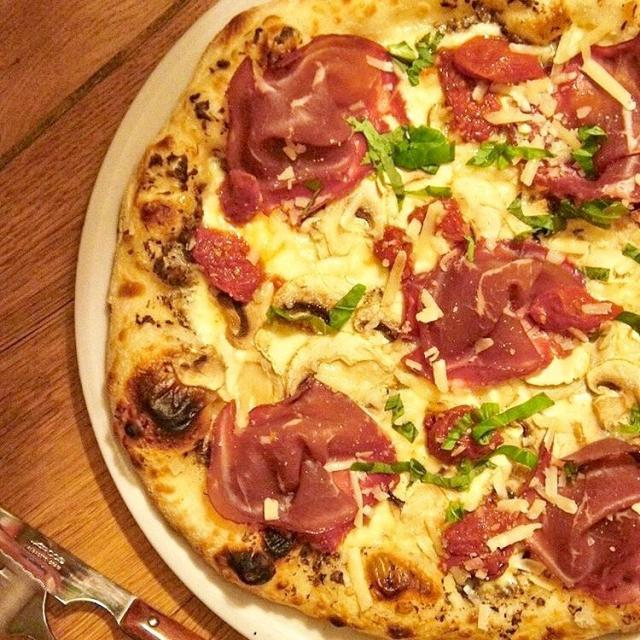basil: (350, 118, 454, 200), (350, 456, 490, 491), (270, 284, 366, 333), (471, 392, 554, 440), (387, 30, 444, 86), (392, 125, 455, 170), (468, 141, 554, 169), (508, 198, 565, 235), (385, 394, 417, 442), (578, 199, 628, 228), (495, 445, 539, 468), (617, 311, 640, 334), (445, 501, 468, 522), (582, 267, 610, 282), (622, 242, 640, 263), (502, 448, 532, 454)
pizza: (107, 0, 640, 640)
tomatoes: (192, 229, 264, 303), (423, 404, 502, 464), (442, 523, 514, 578), (368, 554, 412, 598)
